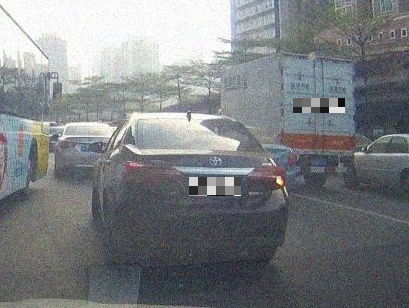L_light: (122, 161, 187, 185)
R_light: (247, 165, 287, 188)
T_light: (185, 119, 207, 125)
day-right: (118, 114, 288, 269)
plate_1: (189, 177, 241, 196)
plate_2: (293, 98, 345, 113)
